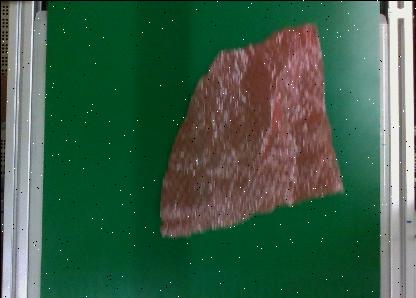Others: (158, 18, 348, 238)
